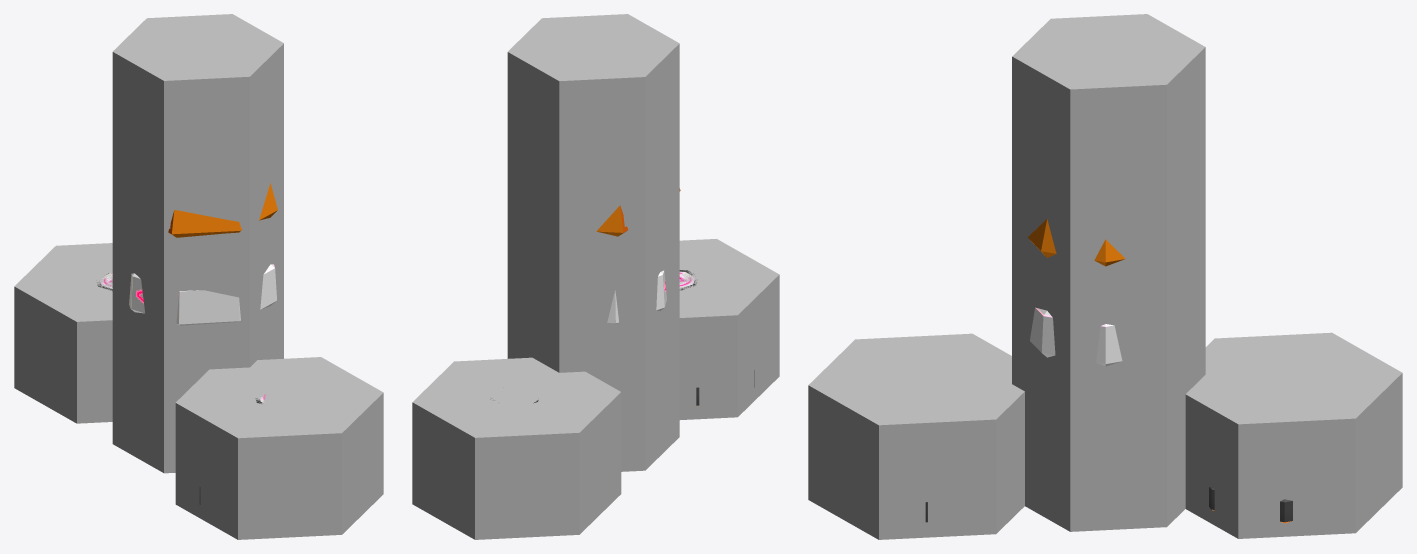
The model's file is SM_Cleaning_Machine.fbx.
The picture shows the model from 3 angles, left to right: view 1: azimuth 30°, elevation 25°; view 2: azimuth 150°, elevation 25°; view 3: azimuth 270°, elevation 25°; orthographic projection. The views are drawn at different scales.
Visible parts, largest first — view 1: SM_Cleaning_Machine_ConvexHulls, SM_Cleaning_Machine; view 2: SM_Cleaning_Machine_ConvexHulls, SM_Cleaning_Machine; view 3: SM_Cleaning_Machine_ConvexHulls, SM_Cleaning_Machine.
Part boxes in pixels (x1,y1,x2,y2): SM_Cleaning_Machine_ConvexHulls: (14, 14, 383, 539); SM_Cleaning_Machine: (97, 183, 277, 504); SM_Cleaning_Machine_ConvexHulls: (412, 14, 779, 539); SM_Cleaning_Machine: (490, 188, 754, 405); SM_Cleaning_Machine_ConvexHulls: (808, 14, 1402, 539); SM_Cleaning_Machine: (925, 219, 1292, 523).
Size of the model in its own units: 84.84 by 230 by 189.
2 materials, 1 textured.
